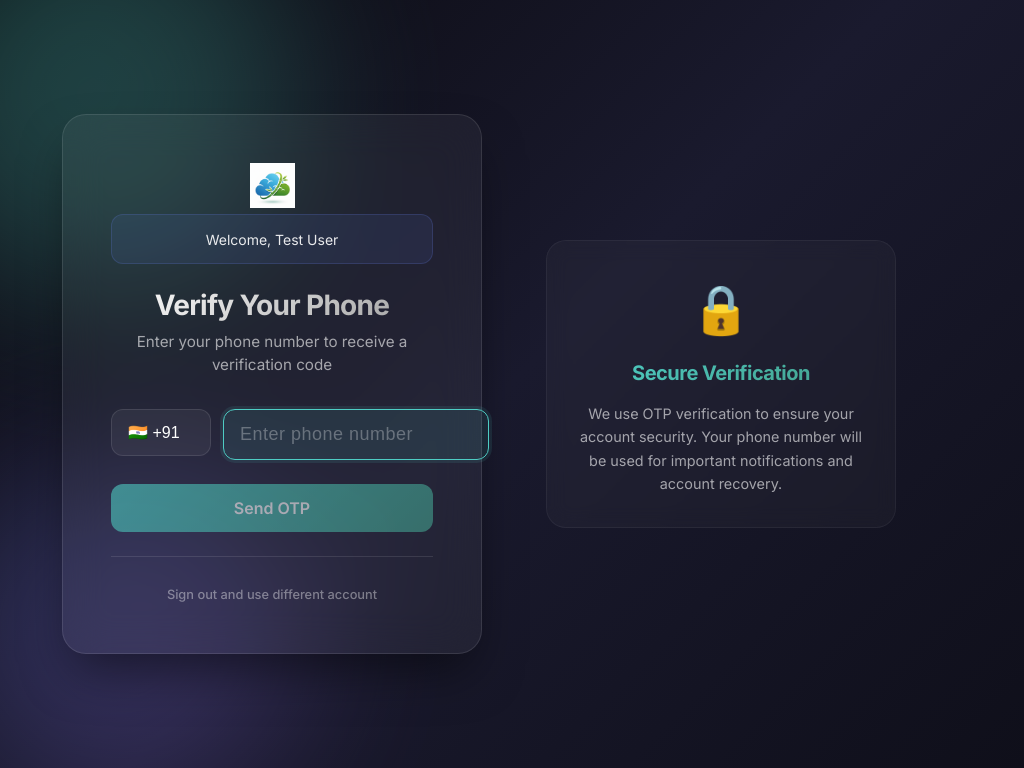
PhoneVerification Component Unit Tests › navigation back to phone input clears state
// Send OTP
Type "9876543210" into the field with placeholder "Enter phone number" at point(356, 434), box [223,409,489,460]
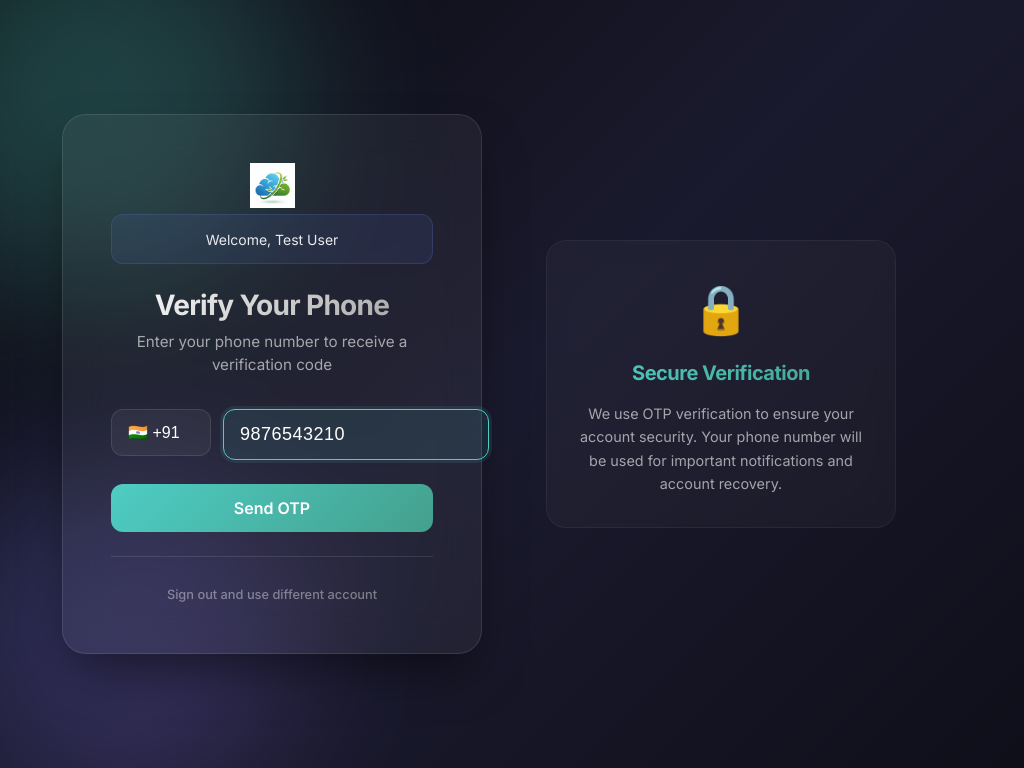
Click the button "Send OTP" at point(272, 508), box [111,484,433,532]
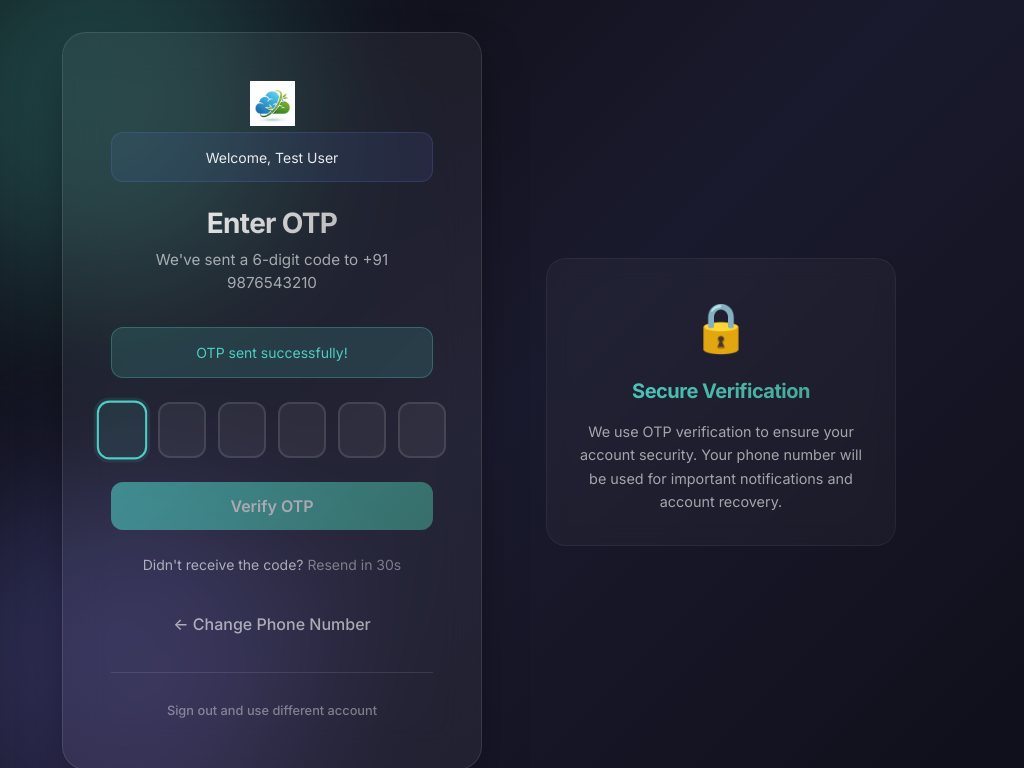
Result: the heading "Enter OTP" is shown at [111,206,433,241]
// Enter some OTP digits
Type "1" into the 1st field with class "otp-input" at point(122, 430), box [97,400,147,459]
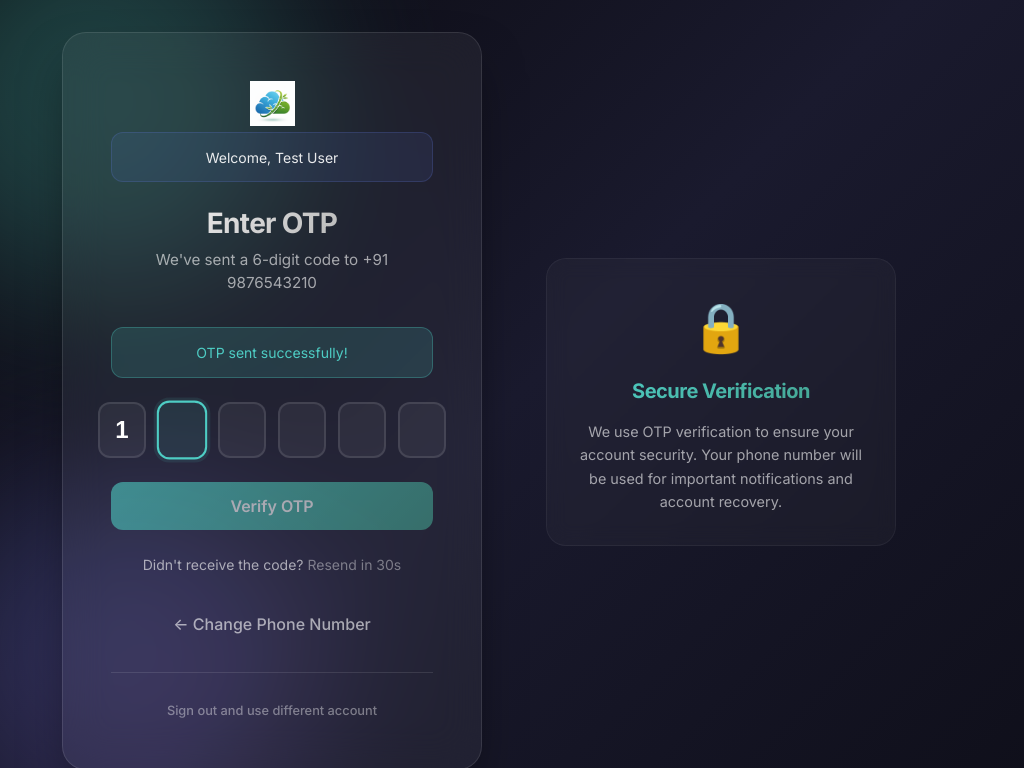
Type "2" into the 2nd field with class "otp-input" at point(182, 430), box [157,400,207,459]
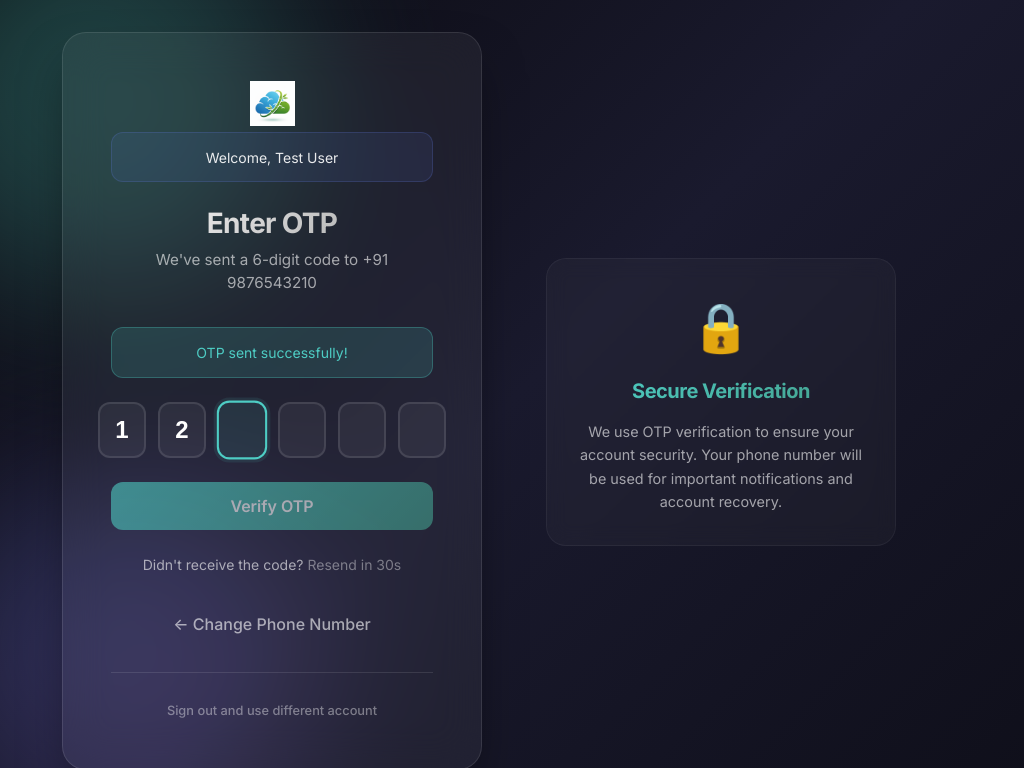
// Navigate back
Click the button "← Change Phone Number" at point(272, 624), box [111,600,433,648]
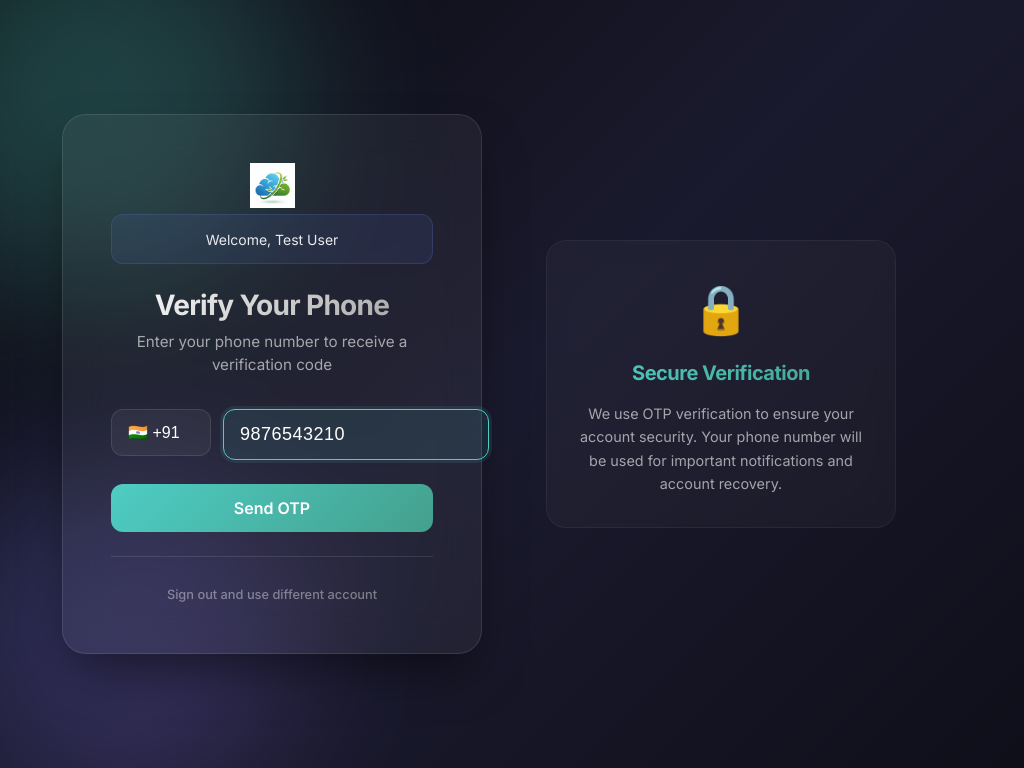
Result: the heading "Verify Your Phone" is shown at [111,288,433,323]
Result: the heading "Enter OTP" is gone
Result: no fields with class "otp-input" are shown
